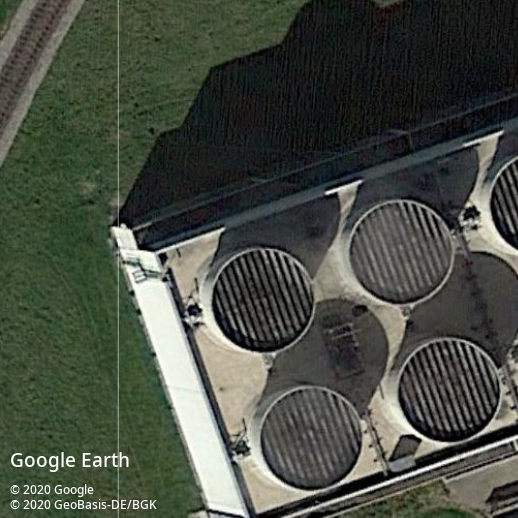Vent: (394, 337, 503, 445), (348, 199, 454, 308), (210, 247, 316, 355), (258, 386, 364, 492)
